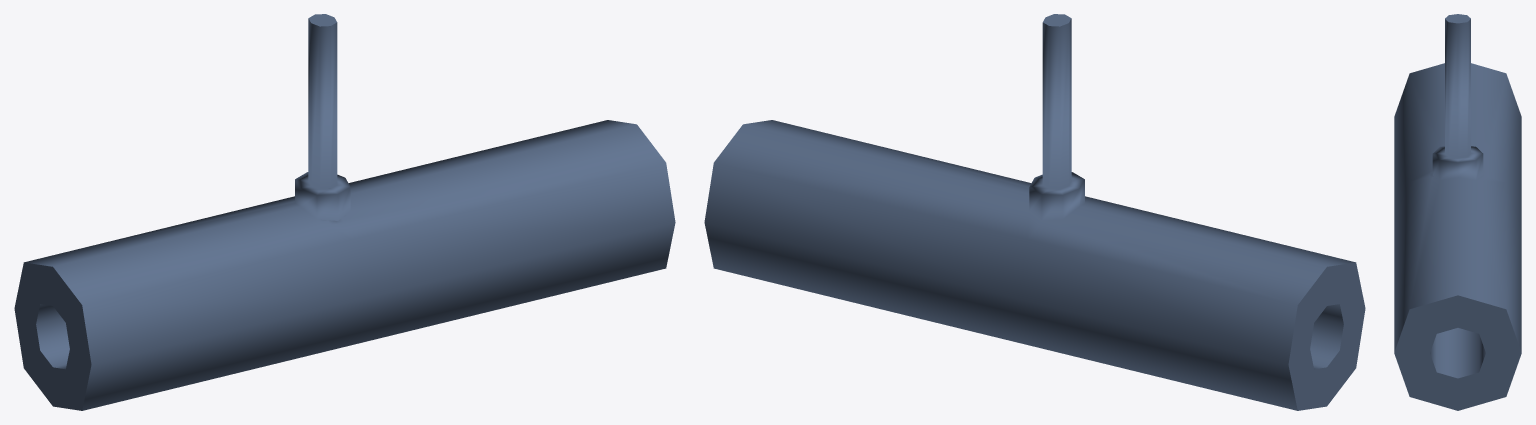
Rendered from Pipe_Mesh_01.fbx.
3 views of the same model, side by side, from view 1: azimuth 30°, elevation 25°; view 2: azimuth 150°, elevation 25°; view 3: azimuth 270°, elevation 25° (orthographic). The views are drawn at different scales.
Parts seen in each view (by area): view 1: Pipe_LP12; view 2: Pipe_LP12; view 3: Pipe_LP12.
Part boxes in pixels (left/top/right/bottom): Pipe_LP12: left=14, top=14, right=675, bottom=410; Pipe_LP12: left=704, top=14, right=1365, bottom=410; Pipe_LP12: left=1394, top=14, right=1521, bottom=410.
Bounding box in the file's own units: 22.64 × 11.87 × 5.17.
